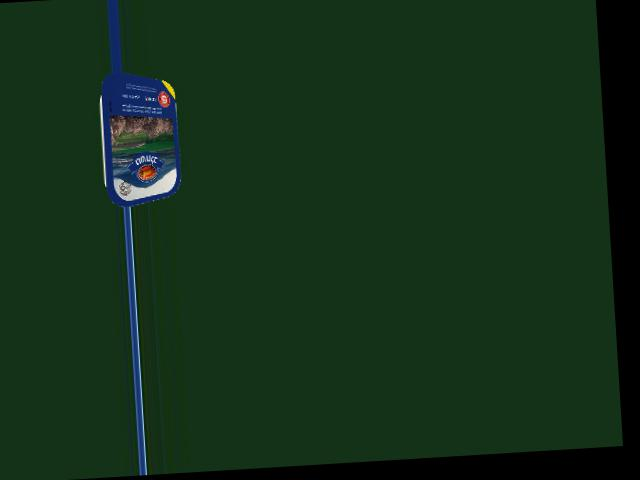cheese: (89, 83, 185, 198)
